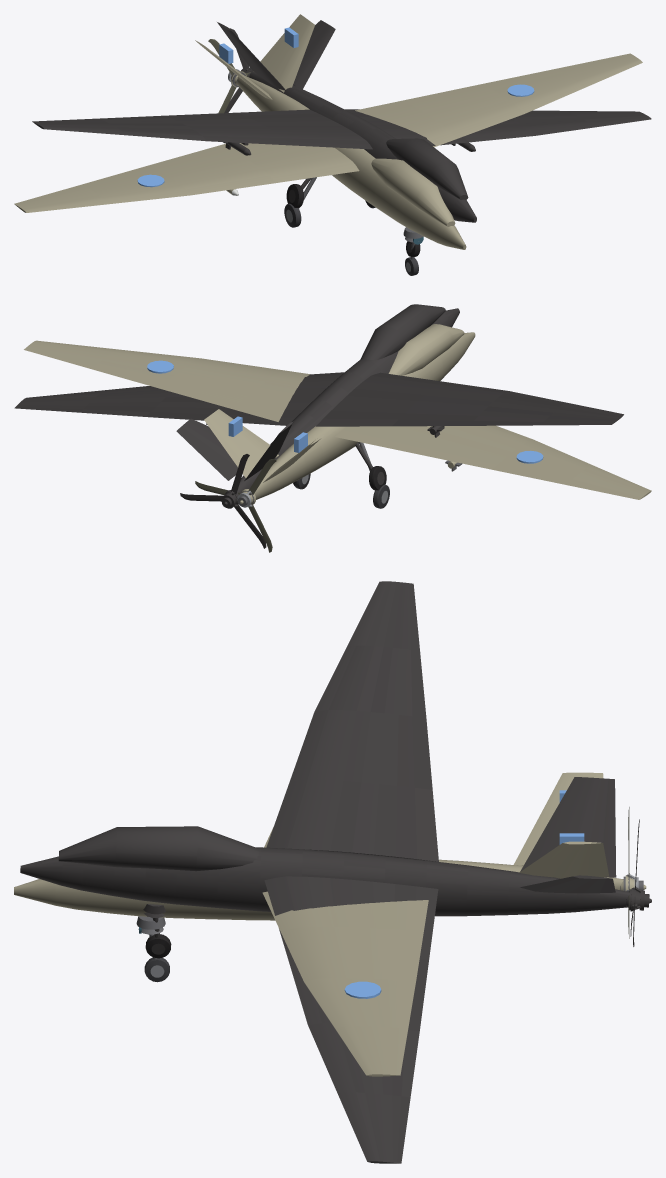
File: drone__wing_loong_i_ch_4.glb
3 renders of one model, top to bottom at view 1: azimuth 30°, elevation 25°; view 2: azimuth 150°, elevation 25°; view 3: azimuth 270°, elevation 25°, orthographic. The views are drawn at different scales.
Parts seen in each view (by area): view 1: Fuselage_Mesh, Wreck, Propeller_Mesh; view 2: Fuselage_Mesh, Wreck, Propeller_Mesh; view 3: Wreck, Fuselage_Mesh.
Part boxes in pixels (x1=…): Fuselage_Mesh: x1=14, y1=14, x2=642, y2=275; Wreck: x1=32, y1=20, x2=651, y2=256; Propeller_Mesh: x1=208, y1=39, x2=253, y2=113; Fuselage_Mesh: x1=24, y1=324, x2=651, y2=508; Wreck: x1=14, y1=304, x2=623, y2=548; Propeller_Mesh: x1=195, y1=458, x2=276, y2=552; Wreck: x1=20, y1=581, x2=651, y2=1163; Fuselage_Mesh: x1=14, y1=772, x2=623, y2=1076.
Size of what is drawn, in the model's own units: 14.21 by 3.38 by 9.26.
